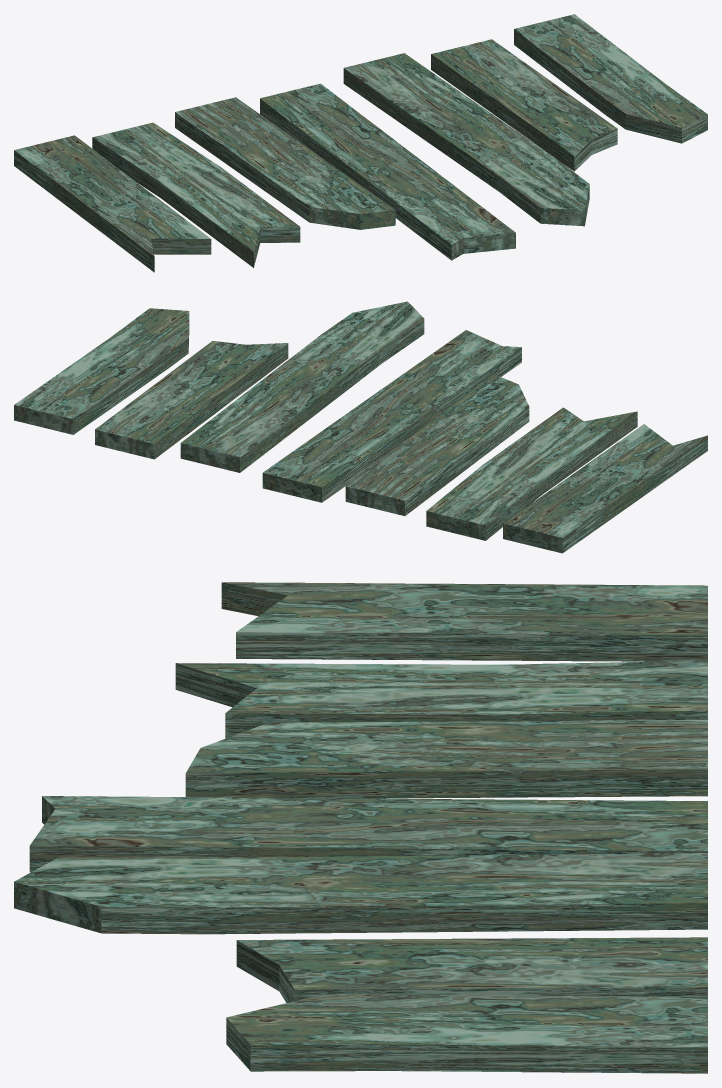
Rendered from BrokenFloor_Piece2.FBX.
3 renders of one model, top to bottom at view 1: azimuth 30°, elevation 25°; view 2: azimuth 150°, elevation 25°; view 3: azimuth 270°, elevation 25°, orthographic. The views are drawn at different scales.
Visible parts, largest first — view 1: Object045; view 2: Object045; view 3: Object045.
Boxes of the visible parts, bbox=[...] form: Object045: bbox=[14, 14, 707, 272]; Object045: bbox=[14, 301, 707, 553]; Object045: bbox=[14, 582, 707, 1073].
Size of the model in its own units: 196 by 8.6 by 124.
